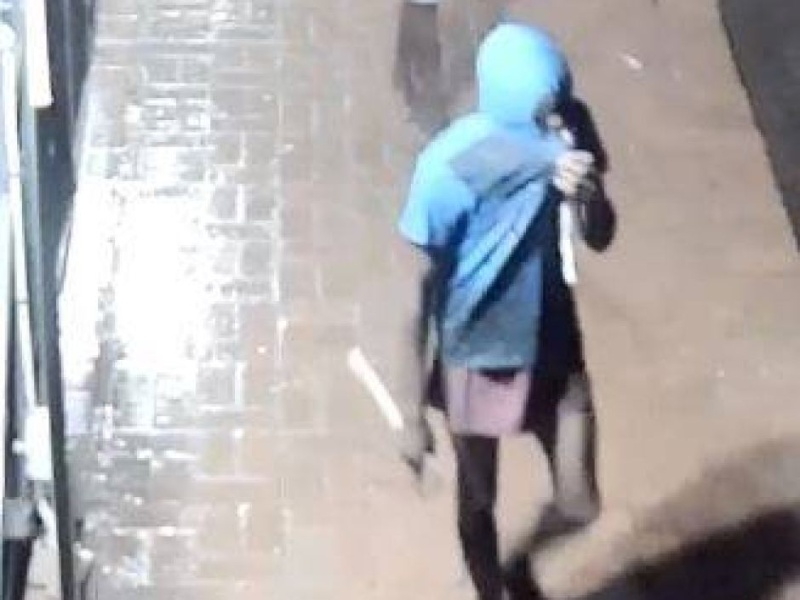person: (386, 13, 636, 599)
